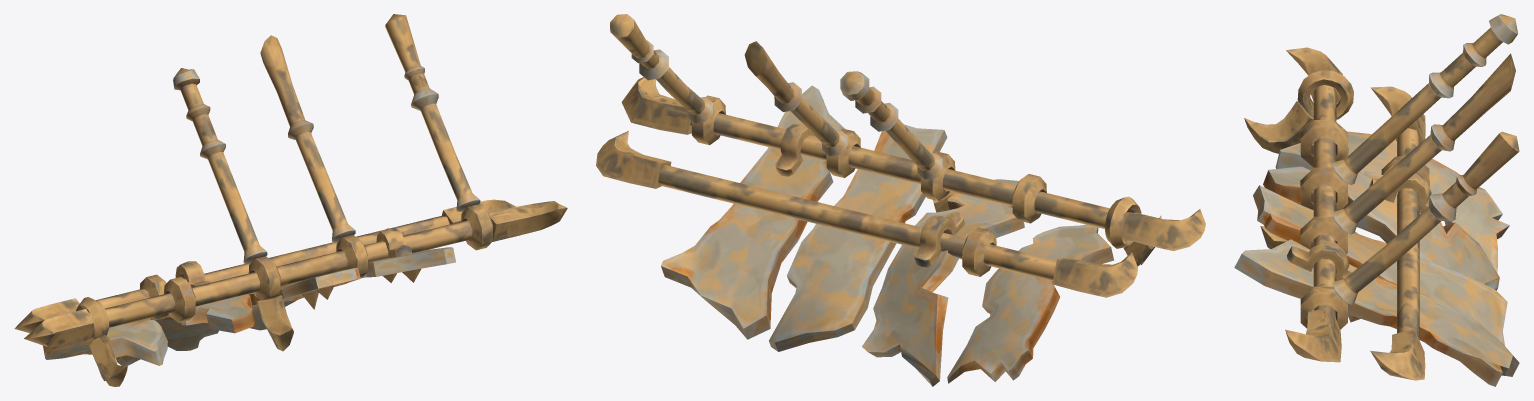
File: HL_Barricade_B_DmgState_02_02.fbx
3 renders of one model, left to right at view 1: azimuth 30°, elevation 25°; view 2: azimuth 150°, elevation 25°; view 3: azimuth 270°, elevation 25°, orthographic. The views are drawn at different scales.
Visible parts, largest first — view 1: HL_Barricade_B_DmgState_02_02; view 2: HL_Barricade_B_DmgState_02_02; view 3: HL_Barricade_B_DmgState_02_02.
Boxes of the visible parts, bbox=[...] form: HL_Barricade_B_DmgState_02_02: bbox=[14, 14, 567, 386]; HL_Barricade_B_DmgState_02_02: bbox=[596, 14, 1205, 386]; HL_Barricade_B_DmgState_02_02: bbox=[1234, 14, 1519, 386].
Bounding box in the file's own units: 688 × 354 × 276.
